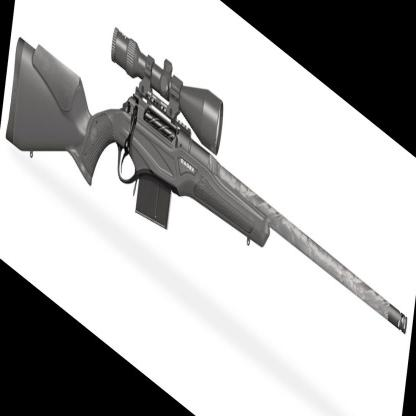rifle: (3, 0, 413, 416)
